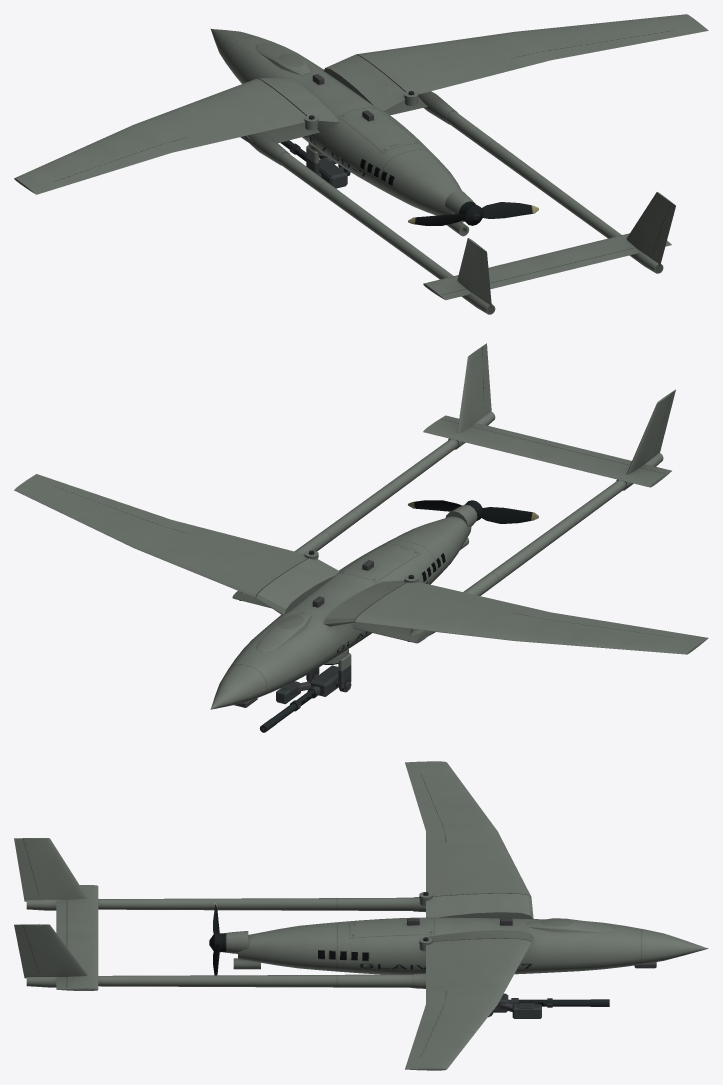
Rendered from Glaive.fbx.
The picture shows the model from 3 angles, top to bottom: view 1: azimuth 30°, elevation 25°; view 2: azimuth 150°, elevation 25°; view 3: azimuth 270°, elevation 25°; orthographic projection. The views are drawn at different scales.
Parts seen in each view (by area): view 1: Skin, WingR, WingL, Propeller, GunPitch; view 2: Skin, WingL, WingR, GunPitch, Propeller, GunYaw; view 3: Skin, WingL, WingR, GunPitch, Propeller.
Boxes of the visible parts, x1,y1,x2,y2 form: Skin: (210, 28, 675, 314); WingR: (356, 14, 708, 100); WingL: (14, 78, 318, 194); Propeller: (408, 202, 538, 225); GunPitch: (280, 140, 347, 188); Skin: (210, 343, 675, 709); WingL: (355, 575, 708, 654); WingR: (14, 474, 318, 598); GunPitch: (260, 665, 338, 732); Propeller: (408, 500, 538, 523); GunYaw: (306, 649, 351, 692); Skin: (14, 838, 708, 990); WingL: (405, 761, 531, 900); WingR: (405, 937, 531, 1070); GunPitch: (493, 993, 609, 1018); Propeller: (209, 903, 221, 975).
Size of what is drawn, in the model's own units: 344 by 66.9 by 329.
3 materials, 1 textured.
